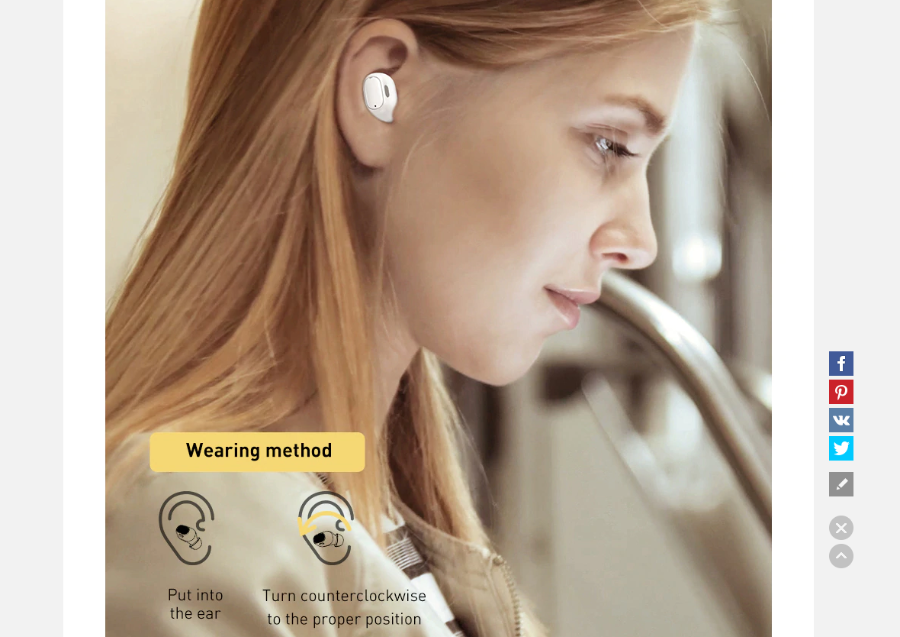earphone: (333, 19, 420, 169)
